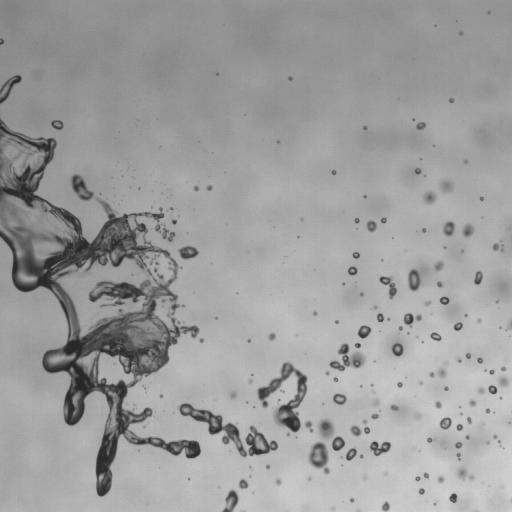droplet: (307, 418, 345, 474), (329, 343, 366, 371), (407, 268, 422, 292), (368, 440, 391, 455), (177, 245, 199, 260), (455, 466, 475, 481), (403, 313, 422, 327), (439, 178, 453, 193), (422, 190, 437, 204), (442, 220, 455, 236), (357, 324, 371, 338), (461, 223, 474, 237), (391, 342, 403, 356), (332, 393, 346, 405), (492, 240, 504, 252), (497, 375, 509, 387), (439, 417, 451, 429), (349, 424, 361, 436), (474, 270, 483, 285), (366, 220, 377, 232), (50, 120, 63, 130), (303, 420, 313, 433), (42, 127, 53, 138), (28, 129, 39, 140), (429, 182, 440, 193), (143, 216, 154, 227), (160, 216, 171, 227), (84, 231, 95, 242), (146, 231, 157, 242), (152, 236, 163, 247), (396, 280, 407, 291), (173, 308, 184, 319), (366, 316, 377, 327), (177, 332, 188, 343), (395, 332, 406, 343), (56, 335, 67, 346), (446, 362, 457, 373), (59, 370, 70, 381), (433, 376, 444, 387), (285, 387, 296, 398), (90, 389, 101, 400), (436, 390, 447, 401), (266, 392, 277, 403), (121, 399, 132, 410), (54, 404, 65, 415), (293, 405, 304, 416), (379, 405, 390, 416), (468, 406, 479, 417), (136, 427, 147, 438), (310, 431, 321, 442), (361, 433, 372, 444), (344, 436, 355, 447), (358, 442, 369, 453), (86, 456, 97, 467), (267, 468, 278, 479), (445, 470, 456, 481), (86, 473, 97, 484), (434, 260, 444, 271), (238, 478, 248, 489), (449, 493, 459, 503), (430, 332, 441, 341), (347, 266, 357, 275), (439, 296, 449, 305), (488, 384, 497, 394), (381, 501, 390, 511), (246, 373, 254, 384), (453, 322, 462, 331), (267, 332, 276, 341), (413, 411, 422, 420), (5, 70, 14, 79), (6, 121, 15, 130), (52, 146, 61, 155), (439, 171, 448, 180), (449, 175, 458, 184), (451, 183, 460, 192), (417, 187, 426, 196), (434, 189, 443, 198), (68, 190, 77, 199), (424, 202, 433, 211), (435, 221, 444, 230), (453, 224, 462, 233), (159, 239, 168, 248), (171, 250, 180, 259), (434, 270, 443, 279), (36, 285, 45, 294), (167, 344, 176, 353), (347, 345, 356, 354), (334, 353, 343, 362), (345, 364, 354, 373), (288, 373, 297, 382), (139, 374, 148, 383), (439, 376, 448, 385), (489, 376, 498, 385), (260, 378, 269, 387), (192, 400, 201, 409), (475, 402, 484, 411), (463, 406, 472, 415), (436, 409, 445, 418), (297, 414, 306, 423), (366, 418, 375, 427), (127, 422, 136, 431), (238, 429, 247, 438), (455, 431, 464, 440), (365, 433, 374, 442), (323, 438, 332, 447), (92, 440, 101, 449), (157, 447, 166, 456), (89, 449, 98, 458), (87, 460, 96, 469), (108, 462, 117, 471), (428, 472, 437, 481), (109, 478, 118, 487), (418, 478, 427, 487), (235, 487, 244, 496), (218, 499, 227, 508), (416, 122, 426, 130), (376, 313, 384, 323), (372, 397, 380, 407), (476, 386, 485, 394), (229, 390, 237, 399), (434, 400, 442, 409), (505, 241, 511, 252), (505, 368, 511, 379), (468, 398, 476, 406), (390, 404, 399, 411), (504, 417, 511, 426), (437, 474, 444, 483), (455, 355, 462, 363), (456, 423, 463, 431), (454, 441, 462, 448), (0, 74, 5, 85), (466, 416, 472, 425), (275, 477, 281, 486), (354, 342, 361, 349), (418, 488, 425, 495), (415, 161, 422, 168), (44, 163, 51, 170), (69, 168, 76, 175), (85, 183, 92, 190), (66, 184, 73, 191), (198, 184, 205, 191), (88, 197, 95, 204), (54, 200, 61, 207), (68, 207, 75, 214), (101, 215, 108, 222), (136, 215, 143, 222), (373, 216, 380, 223), (359, 219, 366, 226), (438, 219, 445, 226), (96, 221, 103, 228), (375, 221, 382, 228), (166, 223, 173, 230), (438, 231, 445, 238), (468, 233, 475, 240), (442, 234, 449, 241), (179, 240, 186, 247), (350, 258, 357, 265), (429, 258, 436, 265), (6, 261, 13, 268), (441, 264, 448, 271), (417, 269, 424, 276), (167, 283, 174, 290), (27, 289, 34, 296), (24, 290, 31, 297), (175, 297, 182, 304), (411, 319, 418, 326), (402, 323, 409, 330), (196, 330, 203, 337), (354, 335, 361, 342), (470, 353, 477, 360), (293, 362, 300, 369), (159, 365, 166, 372), (445, 366, 452, 373), (299, 367, 306, 374), (331, 368, 338, 375), (494, 368, 501, 375), (274, 370, 281, 377), (149, 371, 156, 378), (423, 375, 430, 382), (126, 386, 133, 393), (251, 391, 258, 398), (58, 393, 65, 400), (472, 393, 479, 400), (281, 397, 288, 404), (370, 406, 377, 413), (134, 407, 141, 414), (58, 417, 65, 424), (460, 418, 467, 425), (76, 419, 83, 426), (201, 421, 208, 428), (311, 422, 318, 429), (449, 422, 456, 429), (298, 424, 305, 431), (282, 425, 289, 432), (218, 429, 225, 436), (117, 434, 124, 441), (173, 434, 180, 441), (186, 434, 193, 441), (460, 438, 467, 445), (227, 439, 234, 446), (143, 442, 150, 449), (198, 442, 205, 449), (242, 443, 249, 450), (325, 444, 332, 451), (304, 446, 311, 453), (340, 446, 347, 453), (325, 460, 332, 467), (456, 460, 463, 467), (316, 466, 323, 473), (465, 467, 472, 474), (104, 491, 111, 498), (371, 413, 379, 419), (429, 506, 438, 511), (329, 169, 336, 175), (414, 168, 421, 174), (352, 252, 359, 258), (436, 281, 443, 287), (424, 300, 431, 306), (361, 473, 367, 480), (456, 452, 461, 460), (193, 185, 199, 191), (206, 185, 212, 191), (380, 217, 386, 223), (476, 317, 482, 323), (198, 337, 204, 343), (477, 357, 483, 363), (423, 472, 429, 478), (166, 207, 173, 212), (465, 352, 470, 359), (448, 98, 454, 103), (171, 219, 177, 224), (422, 227, 427, 233), (312, 310, 317, 316), (500, 366, 506, 371), (333, 376, 338, 382), (349, 497, 354, 503), (507, 378, 511, 385), (231, 507, 238, 511), (463, 159, 468, 164), (479, 196, 484, 201), (354, 218, 359, 223), (398, 326, 403, 331), (325, 370, 330, 375), (418, 380, 423, 385), (397, 382, 402, 387), (485, 408, 490, 413), (479, 422, 484, 427), (265, 464, 270, 469), (415, 476, 420, 481), (330, 506, 335, 511), (16, 70, 21, 75), (12, 83, 17, 88), (2, 99, 7, 104), (414, 118, 419, 123), (422, 126, 427, 131), (418, 128, 423, 133), (420, 169, 425, 174), (418, 172, 423, 177), (38, 179, 43, 184), (192, 180, 197, 185), (205, 180, 210, 185), (188, 185, 193, 190), (204, 189, 209, 194), (208, 189, 213, 194), (33, 190, 38, 195), (192, 190, 197, 195), (92, 192, 97, 197), (100, 195, 105, 200), (78, 198, 83, 203), (82, 199, 87, 204), (139, 207, 144, 212), (134, 208, 139, 213), (154, 208, 159, 213), (447, 216, 452, 221), (355, 222, 360, 227), (80, 223, 85, 228), (172, 235, 177, 240), (492, 238, 497, 243), (488, 241, 493, 246), (190, 242, 195, 247), (195, 245, 200, 250), (503, 245, 508, 250), (495, 248, 500, 253), (187, 257, 192, 262), (429, 264, 434, 269), (176, 269, 181, 274), (404, 269, 409, 274), (384, 272, 389, 277), (352, 273, 357, 278), (470, 274, 475, 279), (374, 276, 379, 281), (480, 278, 485, 283), (440, 279, 445, 284), (8, 280, 13, 285), (394, 283, 399, 288), (473, 283, 478, 288), (384, 284, 389, 289), (417, 285, 422, 290), (16, 289, 21, 294), (413, 289, 418, 294), (392, 294, 397, 299), (424, 295, 429, 300), (56, 303, 61, 308), (174, 307, 179, 312), (375, 308, 380, 313), (59, 310, 64, 315), (372, 312, 377, 317), (411, 312, 416, 317), (382, 313, 387, 318), (420, 314, 425, 319), (311, 315, 316, 320), (451, 319, 456, 324), (365, 321, 370, 326), (186, 322, 191, 327), (196, 323, 201, 328), (501, 323, 506, 328), (448, 324, 453, 329), (267, 328, 272, 333), (271, 328, 276, 333), (353, 328, 358, 333), (264, 331, 269, 336), (367, 332, 372, 337), (274, 334, 279, 339), (176, 336, 181, 341), (271, 338, 276, 343), (396, 338, 401, 343), (390, 339, 395, 344), (335, 344, 340, 349), (357, 346, 362, 351), (401, 350, 406, 355), (389, 352, 394, 357), (38, 353, 43, 358), (460, 354, 465, 359), (394, 355, 399, 360), (481, 355, 486, 360), (338, 359, 343, 364), (37, 360, 42, 365), (500, 361, 505, 366), (277, 363, 282, 368), (356, 366, 361, 371), (432, 368, 437, 373), (424, 370, 429, 375), (433, 372, 438, 377), (245, 373, 250, 378), (427, 376, 432, 381), (399, 377, 404, 382), (304, 380, 309, 385), (134, 382, 139, 387), (495, 384, 500, 389), (473, 385, 478, 390), (228, 386, 233, 391), (305, 389, 310, 394), (338, 389, 343, 394), (484, 389, 489, 394), (374, 392, 379, 397), (224, 393, 229, 398), (235, 393, 240, 398), (370, 393, 375, 398), (328, 394, 333, 399), (345, 395, 350, 400), (433, 396, 438, 401), (182, 398, 187, 403), (230, 398, 235, 403), (344, 399, 349, 404), (393, 400, 398, 405), (430, 401, 435, 406), (440, 401, 445, 406), (333, 402, 338, 407), (147, 403, 152, 408), (339, 403, 344, 408), (385, 403, 390, 408), (202, 405, 207, 410), (390, 409, 395, 414), (175, 410, 180, 415), (212, 410, 217, 415), (81, 412, 86, 417), (442, 412, 447, 417), (102, 414, 107, 419), (185, 414, 190, 419), (145, 416, 150, 421), (436, 416, 441, 421), (230, 419, 235, 424), (221, 420, 226, 425), (365, 422, 370, 427), (346, 423, 351, 428), (67, 424, 72, 429), (359, 425, 364, 430), (256, 427, 261, 432), (332, 432, 337, 437), (384, 437, 389, 442), (164, 438, 169, 443), (266, 438, 271, 443), (492, 438, 497, 443), (275, 439, 280, 444), (128, 442, 133, 447), (388, 446, 393, 451), (456, 447, 461, 452), (233, 448, 238, 453), (268, 449, 273, 454), (355, 450, 360, 455), (380, 451, 385, 456), (252, 453, 257, 458), (258, 453, 263, 458), (354, 453, 359, 458), (194, 455, 199, 460), (346, 459, 351, 464), (425, 468, 430, 473), (418, 472, 423, 477), (473, 472, 478, 477), (442, 473, 447, 478), (419, 475, 424, 480), (464, 476, 469, 481), (245, 478, 250, 483), (270, 478, 275, 483), (442, 479, 447, 484), (280, 480, 285, 485), (271, 482, 276, 487), (91, 487, 96, 492), (223, 491, 228, 496), (446, 491, 451, 496), (344, 497, 349, 502), (379, 499, 384, 504), (0, 38, 4, 44), (371, 305, 377, 309), (0, 237, 3, 244), (458, 31, 463, 35), (288, 76, 292, 81), (363, 125, 367, 130), (334, 320, 339, 324), (307, 476, 311, 481), (507, 329, 511, 334), (359, 292, 363, 296), (495, 299, 499, 303), (247, 338, 251, 342), (444, 386, 448, 390), (371, 390, 375, 394), (159, 394, 163, 398), (465, 435, 469, 439), (359, 454, 363, 458), (383, 471, 387, 475), (500, 484, 504, 488), (508, 423, 511, 428), (378, 508, 383, 511), (386, 508, 391, 511), (300, 217, 303, 221), (130, 273, 134, 276), (341, 282, 345, 285), (464, 313, 467, 317), (214, 316, 218, 319), (387, 317, 390, 321), (370, 383, 373, 387), (459, 412, 462, 416), (486, 440, 489, 444), (228, 448, 231, 452), (0, 33, 2, 38), (487, 11, 490, 14), (216, 72, 219, 75), (412, 118, 415, 121), (276, 140, 279, 143), (432, 144, 435, 147), (363, 195, 366, 198), (176, 214, 179, 217), (443, 246, 446, 249), (498, 326, 501, 329), (406, 331, 409, 334), (415, 335, 418, 338), (113, 362, 116, 365), (499, 396, 502, 399), (321, 402, 324, 405), (458, 405, 461, 408), (187, 477, 190, 480), (251, 491, 254, 494), (460, 28, 463, 31), (455, 31, 458, 34), (462, 31, 465, 34), (460, 34, 463, 37), (1, 36, 4, 39), (0, 43, 3, 46), (212, 72, 215, 75), (290, 74, 293, 77), (215, 75, 218, 78), (284, 76, 287, 79), (291, 78, 294, 81), (286, 79, 289, 82), (450, 95, 453, 98), (446, 96, 449, 99), (450, 102, 453, 105), (55, 117, 58, 120), (49, 118, 52, 121), (59, 118, 62, 121), (62, 121, 65, 124), (363, 122, 366, 125), (366, 126, 369, 129), (363, 129, 366, 132), (274, 137, 277, 140), (279, 139, 282, 142), (274, 142, 277, 145), (434, 145, 437, 148), (419, 154, 422, 157), (419, 159, 422, 162), (412, 166, 415, 169), (329, 167, 332, 170), (328, 170, 331, 173), (335, 171, 338, 174), (412, 171, 415, 174), (134, 186, 137, 189), (211, 186, 214, 189), (139, 187, 142, 190), (361, 192, 364, 195), (479, 193, 482, 196), (366, 194, 369, 197), (476, 196, 479, 199), (483, 196, 486, 199), (362, 197, 365, 200), (46, 198, 49, 201), (482, 199, 485, 202), (171, 204, 174, 207), (161, 209, 164, 212), (168, 209, 171, 212), (125, 211, 128, 214), (355, 214, 358, 217), (382, 214, 385, 217), (172, 216, 175, 219), (351, 217, 354, 220), (358, 217, 361, 220), (385, 217, 388, 220), (175, 221, 178, 224), (422, 224, 425, 227), (418, 228, 421, 231), (174, 231, 177, 234), (424, 231, 427, 234), (296, 232, 299, 235), (391, 233, 394, 236), (293, 235, 296, 238), (299, 235, 302, 238), (388, 236, 391, 239), (391, 238, 394, 241), (501, 240, 504, 243), (354, 248, 357, 251), (442, 248, 445, 251), (463, 248, 466, 251), (359, 253, 362, 256), (349, 254, 352, 257), (382, 256, 385, 259), (377, 257, 380, 260), (346, 265, 349, 268), (356, 268, 359, 271), (347, 273, 350, 276), (340, 279, 343, 282), (344, 282, 347, 285), (340, 284, 343, 287), (434, 284, 437, 287), (356, 291, 359, 294), (363, 292, 366, 295), (441, 293, 444, 296), (359, 295, 362, 298), (448, 297, 451, 300), (494, 297, 497, 300), (492, 300, 495, 303), (437, 301, 440, 304), (447, 301, 450, 304), (497, 301, 500, 304), (429, 303, 432, 306), (440, 303, 443, 306), (370, 304, 373, 307), (310, 310, 313, 313), (316, 310, 319, 313), (379, 310, 382, 313), (213, 313, 216, 316), (466, 315, 469, 318), (217, 316, 220, 319), (334, 316, 337, 319), (389, 316, 392, 319), (480, 316, 483, 319), (214, 319, 217, 322), (338, 319, 341, 322), (459, 319, 462, 322), (332, 322, 335, 325), (335, 323, 338, 326), (495, 325, 498, 328), (395, 327, 398, 330), (453, 329, 456, 332), (457, 329, 460, 332), (435, 330, 438, 333), (427, 334, 430, 337), (440, 335, 443, 338), (244, 337, 247, 340), (203, 338, 206, 341), (250, 338, 253, 341), (433, 339, 436, 342), (201, 341, 204, 344), (245, 341, 248, 344), (248, 341, 251, 344), (418, 341, 421, 344), (477, 354, 480, 357), (372, 356, 375, 359), (375, 359, 378, 362), (482, 359, 485, 362), (455, 361, 458, 364), (475, 361, 478, 364), (372, 362, 375, 365), (252, 371, 255, 374), (330, 378, 333, 381), (371, 380, 374, 383), (334, 381, 337, 384), (358, 381, 361, 384), (444, 383, 447, 386), (362, 384, 365, 387), (367, 384, 370, 387), (372, 384, 375, 387), (394, 384, 397, 387), (401, 384, 404, 387), (420, 384, 423, 387), (441, 385, 444, 388), (447, 385, 450, 388), (397, 386, 400, 389), (145, 388, 148, 391), (444, 390, 447, 393), (160, 391, 163, 394), (156, 393, 159, 396), (491, 393, 494, 396), (160, 397, 163, 400), (318, 402, 321, 405), (245, 403, 248, 406), (322, 404, 325, 407), (455, 404, 458, 407), (485, 405, 488, 408), (251, 407, 254, 410), (458, 408, 461, 411), (482, 409, 485, 412), (489, 410, 492, 413), (485, 412, 488, 415), (494, 412, 497, 415), (437, 425, 440, 428), (369, 428, 372, 431), (442, 428, 445, 431), (430, 435, 433, 438), (468, 436, 471, 439), (496, 436, 499, 439), (430, 440, 433, 443), (453, 440, 456, 443), (425, 441, 428, 444), (499, 441, 502, 444), (496, 442, 499, 445), (487, 443, 490, 446), (498, 446, 501, 449), (454, 455, 457, 458), (459, 455, 462, 458), (343, 457, 346, 460), (262, 465, 265, 468), (269, 465, 272, 468), (338, 465, 341, 468), (265, 468, 268, 471), (305, 474, 308, 477), (428, 474, 431, 477), (412, 475, 415, 478), (189, 476, 192, 479), (184, 477, 187, 480), (413, 479, 416, 482), (308, 480, 311, 483), (415, 489, 418, 492), (423, 490, 426, 493), (416, 492, 419, 495), (353, 498, 356, 501), (448, 500, 451, 503), (351, 501, 354, 504), (387, 501, 390, 504), (435, 502, 438, 505), (430, 503, 433, 506), (419, 157, 422, 159), (424, 174, 426, 177), (138, 187, 140, 190), (297, 235, 299, 238), (461, 249, 463, 252), (381, 258, 383, 261), (360, 384, 362, 387), (245, 401, 248, 403), (294, 436, 297, 438), (340, 463, 342, 466), (249, 474, 251, 477), (487, 485, 490, 487), (434, 24, 436, 26), (99, 193, 101, 195), (186, 232, 188, 234), (236, 292, 238, 294), (421, 341, 423, 343), (373, 360, 375, 362), (253, 405, 255, 407), (218, 486, 220, 488), (405, 376, 406, 378), (138, 449, 139, 451), (418, 450, 420, 451)
ligament: (177, 403, 278, 457), (0, 74, 22, 105), (379, 275, 397, 299), (221, 489, 239, 511), (429, 360, 448, 378), (340, 446, 357, 460), (492, 433, 504, 449), (361, 419, 371, 434), (504, 317, 511, 331), (484, 368, 495, 375), (142, 421, 149, 429), (426, 437, 437, 442), (433, 499, 438, 506), (249, 465, 252, 471), (472, 509, 479, 511), (355, 509, 361, 511), (151, 205, 153, 209), (239, 510, 246, 511), (510, 498, 511, 502), (492, 412, 495, 413)
